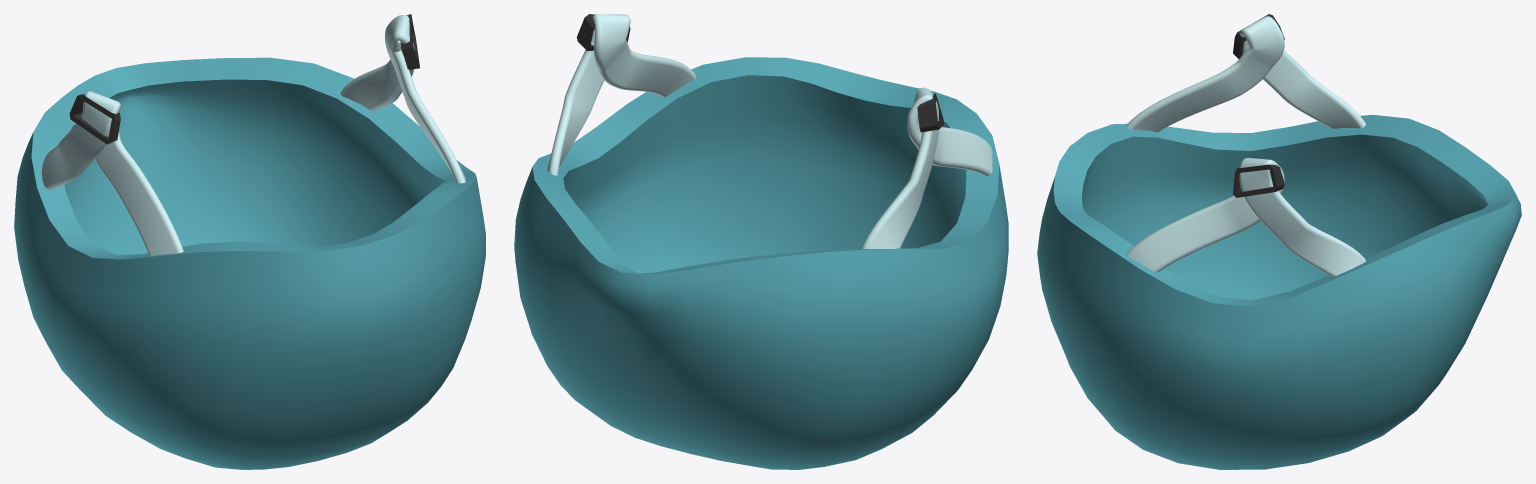
Rendered from Helmet_FULL.fbx.
3 views of the same model, side by side, from view 1: azimuth 30°, elevation 25°; view 2: azimuth 150°, elevation 25°; view 3: azimuth 270°, elevation 25° (orthographic). The views are drawn at different scales.
Visible parts, largest first — view 1: Helmet, Band, Buckle; view 2: Helmet, Band, Buckle; view 3: Helmet, Band, Buckle.
Part boxes in pixels (x1,y1,x2,y2): Helmet: [14, 57, 485, 469]; Band: [41, 15, 465, 255]; Buckle: [69, 14, 419, 144]; Helmet: [514, 57, 1008, 469]; Band: [547, 14, 992, 248]; Buckle: [576, 14, 943, 132]; Helmet: [1037, 114, 1521, 469]; Band: [1126, 16, 1366, 276]; Buckle: [1233, 14, 1284, 197].
Size of the model in its own units: 341 by 307 by 381.
